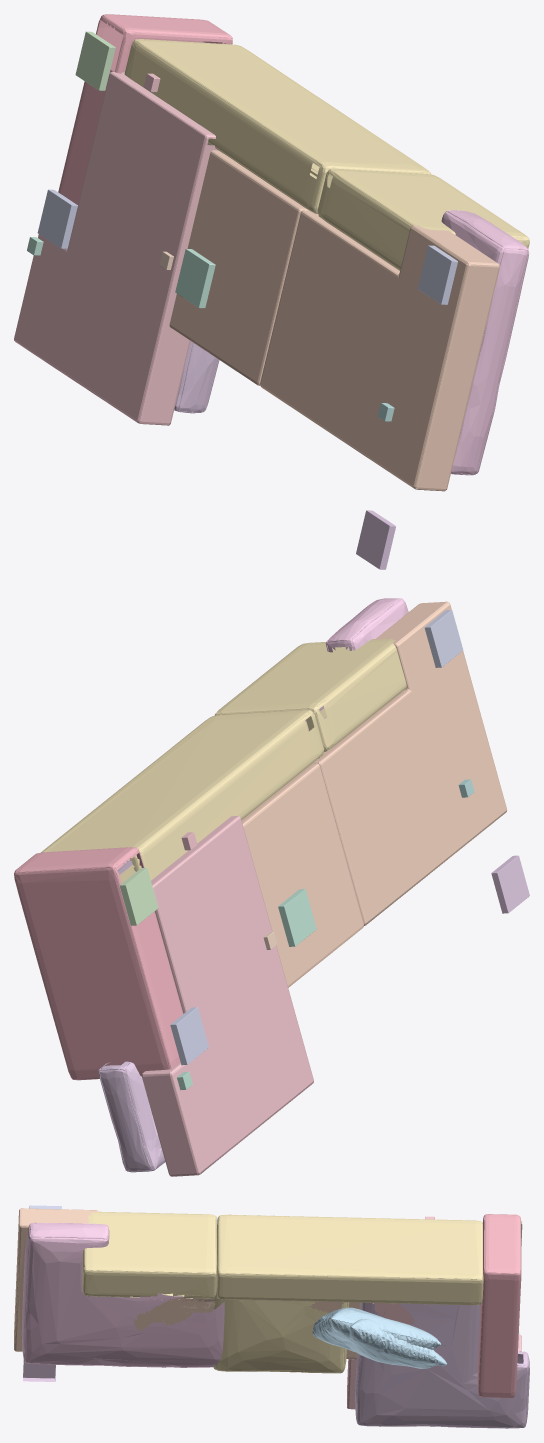
Rendered from view_assembly_9_colored.glb.
3 renders of one model, top to bottom at view 1: azimuth 30°, elevation 25°; view 2: azimuth 150°, elevation 25°; view 3: azimuth 270°, elevation 25°, orthographic. The views are drawn at different scales.
Visible parts, largest first — view 1: world; view 2: world; view 3: world.
Part boxes in pixels (<box>): world: <box>14,14,529,569</box>; world: <box>14,598,529,1176</box>; world: <box>14,1205,529,1428</box>.
Size of the model in its own units: 0.358 by 0.4778 by 0.9771.
